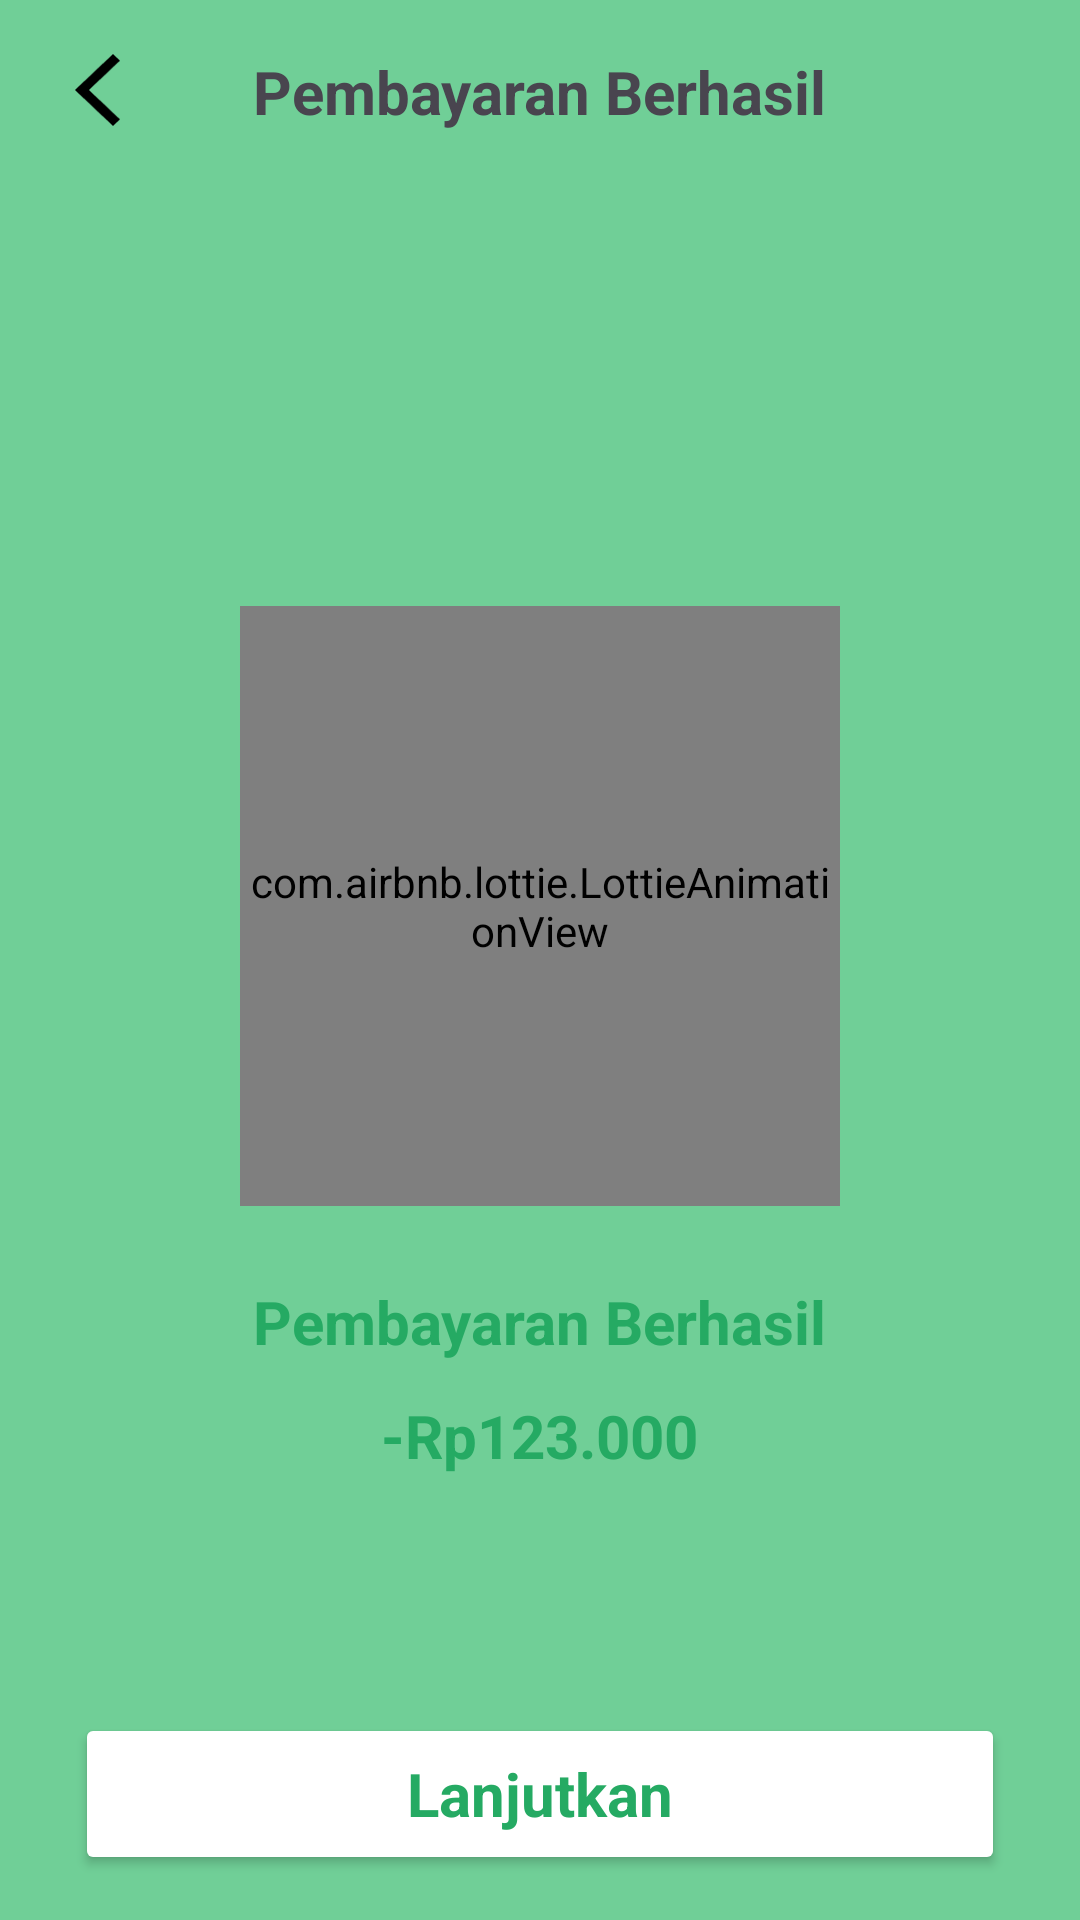

Named icons in this screenshot (1080px×1920px) and their centers, point (x, y):
iconback: point (97, 90)
